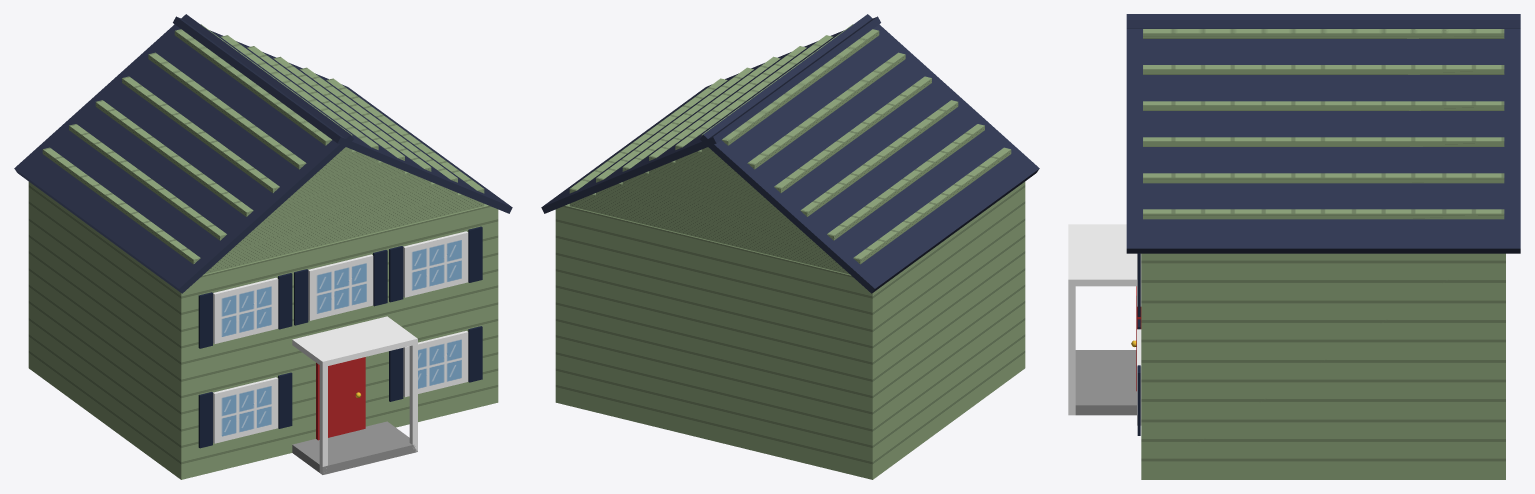
The model's file is house_green.glb.
3 renders of one model, left to right at view 1: azimuth 30°, elevation 25°; view 2: azimuth 150°, elevation 25°; view 3: azimuth 270°, elevation 25°, orthographic. The views are drawn at different scales.
Visible parts, largest first — view 1: house_green; view 2: house_green; view 3: house_green.
Boxes of the visible parts, <box> form: house_green: <box>14,14,512,479</box>; house_green: <box>541,14,1039,479</box>; house_green: <box>1068,14,1520,479</box>.
Bounding box in the file's own units: 6.32 × 5.6 × 6.2.
8 materials, 2 textured.
